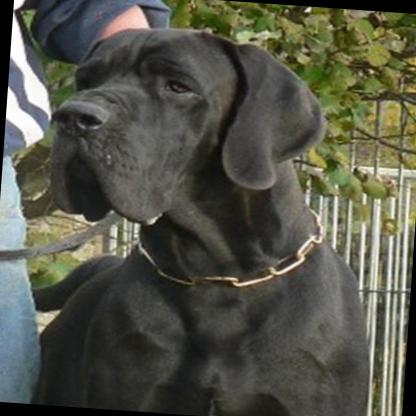Great_Dane: (28, 21, 392, 416)
